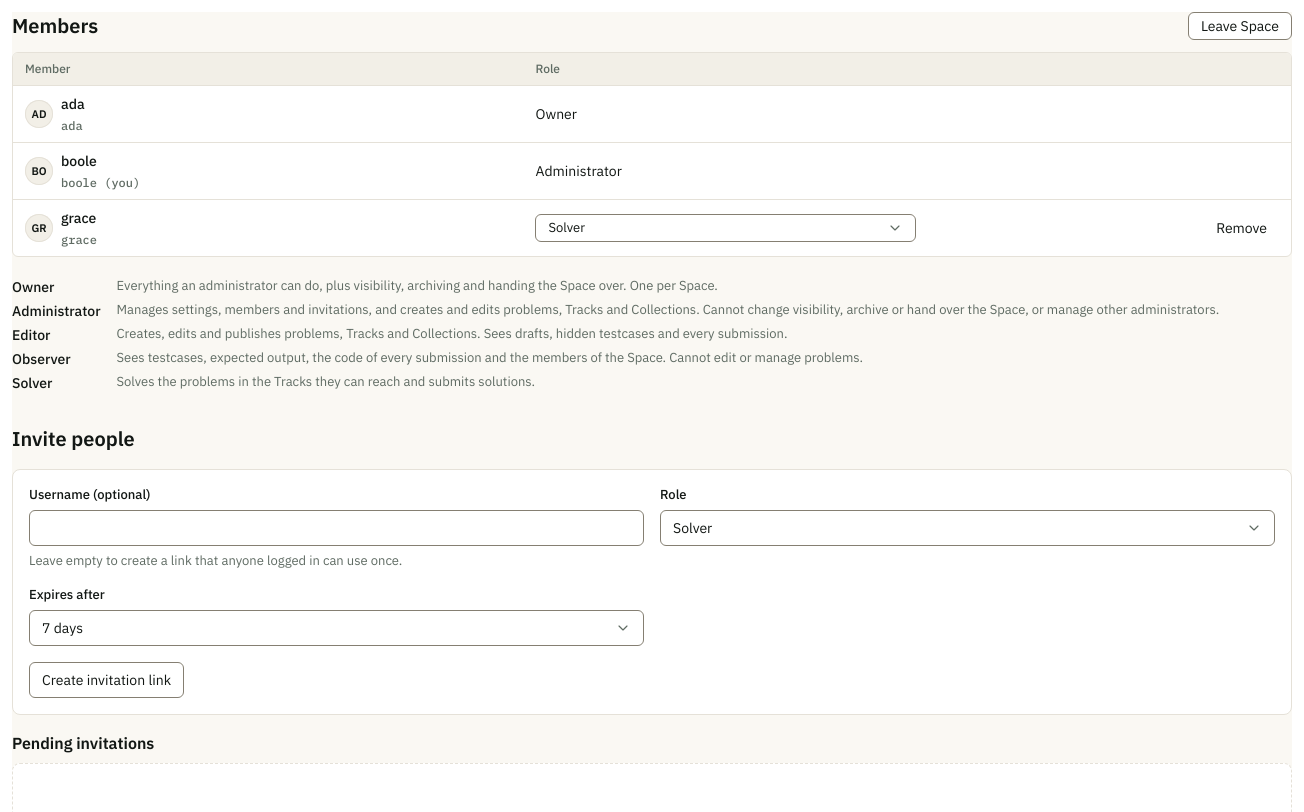
MembersPanel › role picker › locks the roles an administrator cannot hand out, with a lock icon and no reason text
The image size is (1304, 812).
Click the dropdown named "Role of grace" at coordinates (567, 227), box [536,214,916,242]
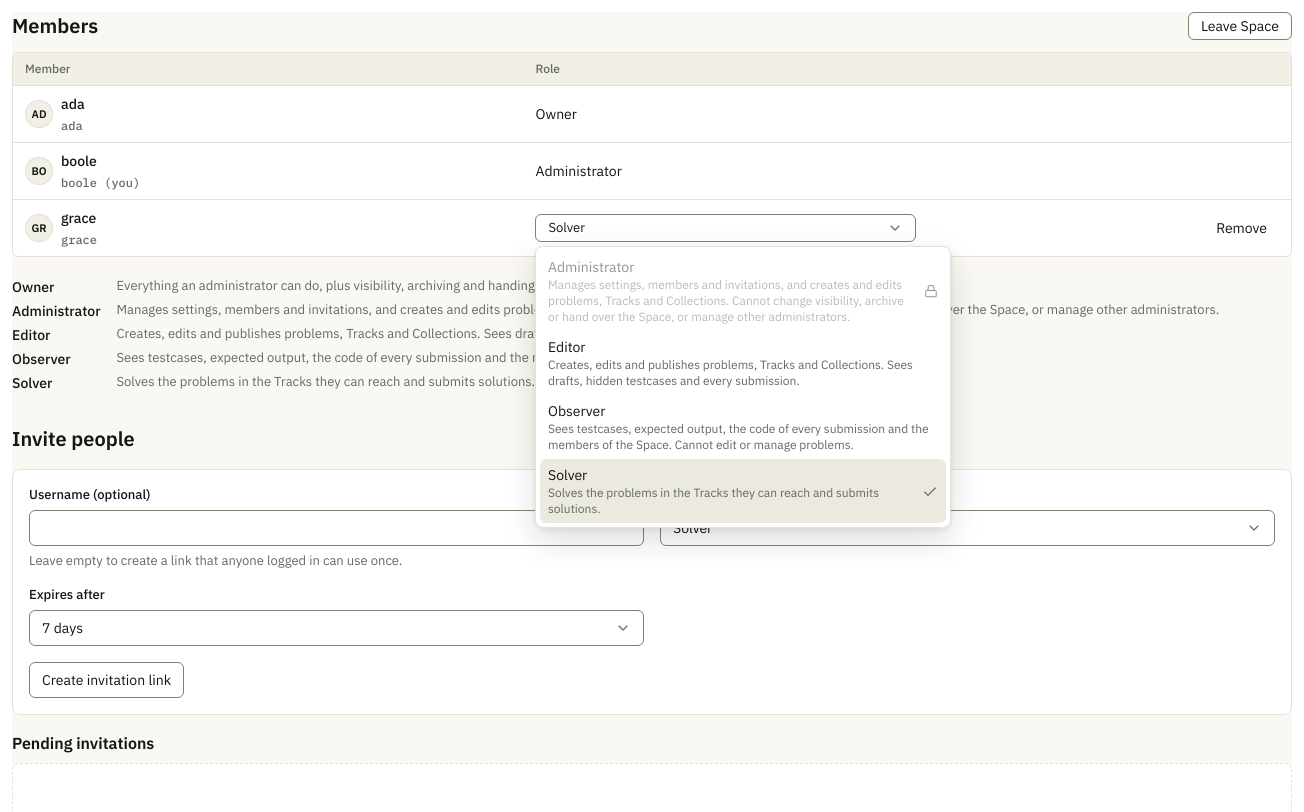
Expected: the icon with class "lucide-lock" is shown, [924,284,938,298]
